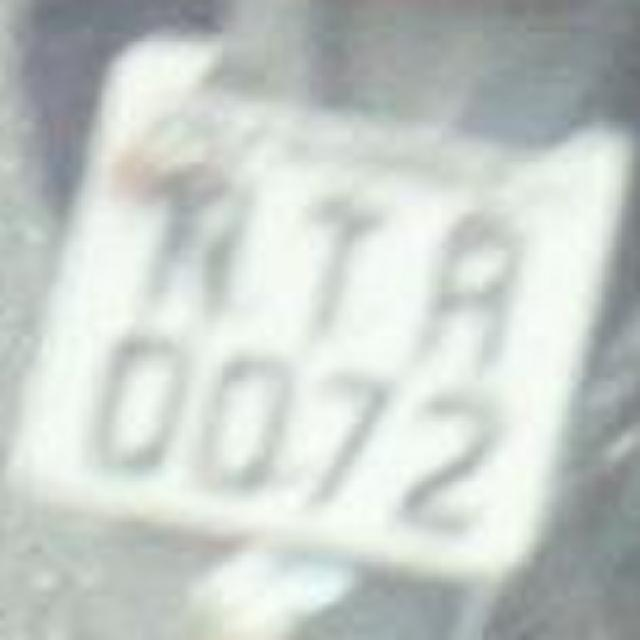0: (68, 300, 212, 500), (172, 316, 312, 516)
2: (372, 364, 512, 564)
7: (276, 340, 404, 535)
B: (400, 180, 535, 375)
N: (108, 148, 280, 340)
T: (256, 164, 396, 356)
